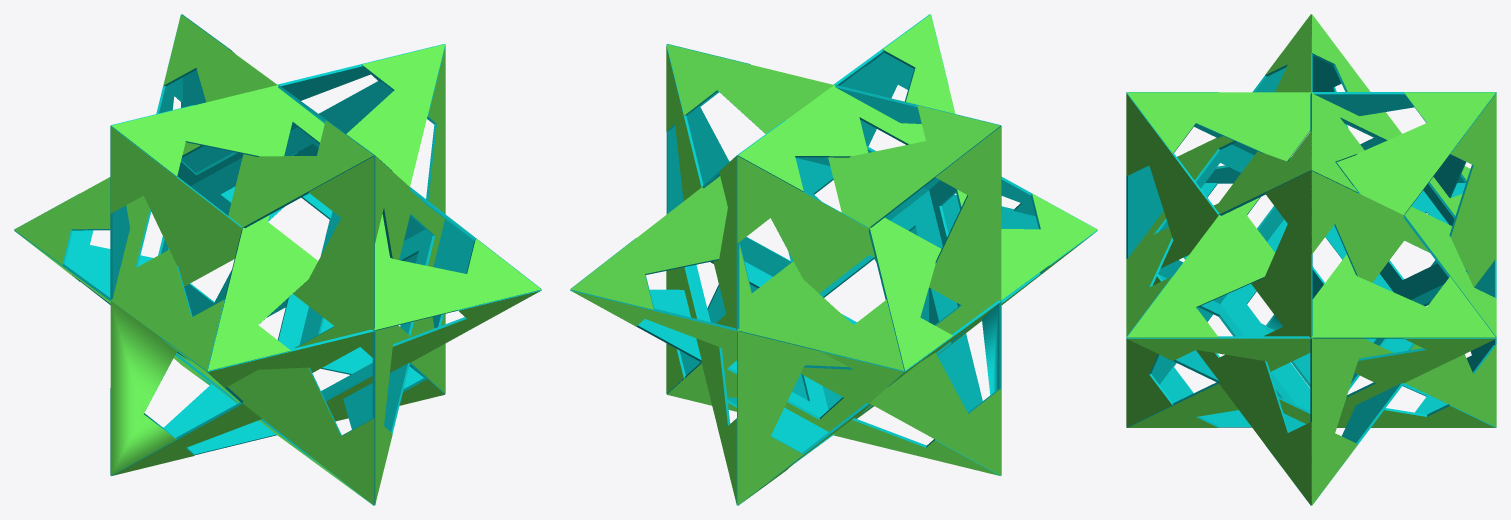
Rendered from EscherS.glb.
3 renders of one model, left to right at view 1: azimuth 30°, elevation 25°; view 2: azimuth 150°, elevation 25°; view 3: azimuth 270°, elevation 25°, orthographic. The views are drawn at different scales.
Visible parts, largest first — view 1: Mesh_0002_1, Mesh_0002; view 2: Mesh_0002_1, Mesh_0002; view 3: Mesh_0002_1, Mesh_0002.
Boxes of the visible parts, x1,y1,x2,y2 form: Mesh_0002_1: (14, 14, 541, 505); Mesh_0002: (14, 14, 541, 505); Mesh_0002_1: (570, 14, 1097, 505); Mesh_0002: (570, 14, 1097, 505); Mesh_0002_1: (1126, 14, 1496, 505); Mesh_0002: (1126, 14, 1496, 505).
Size of the model in its own units: 7.41 by 7.41 by 7.41.
